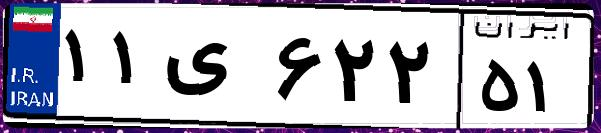1: (57, 26, 110, 100), (525, 38, 570, 115), (110, 28, 158, 98)
2: (385, 28, 445, 110), (330, 28, 385, 110)
5: (475, 38, 525, 113)
6: (270, 28, 330, 110)
ی: (158, 20, 270, 120)
